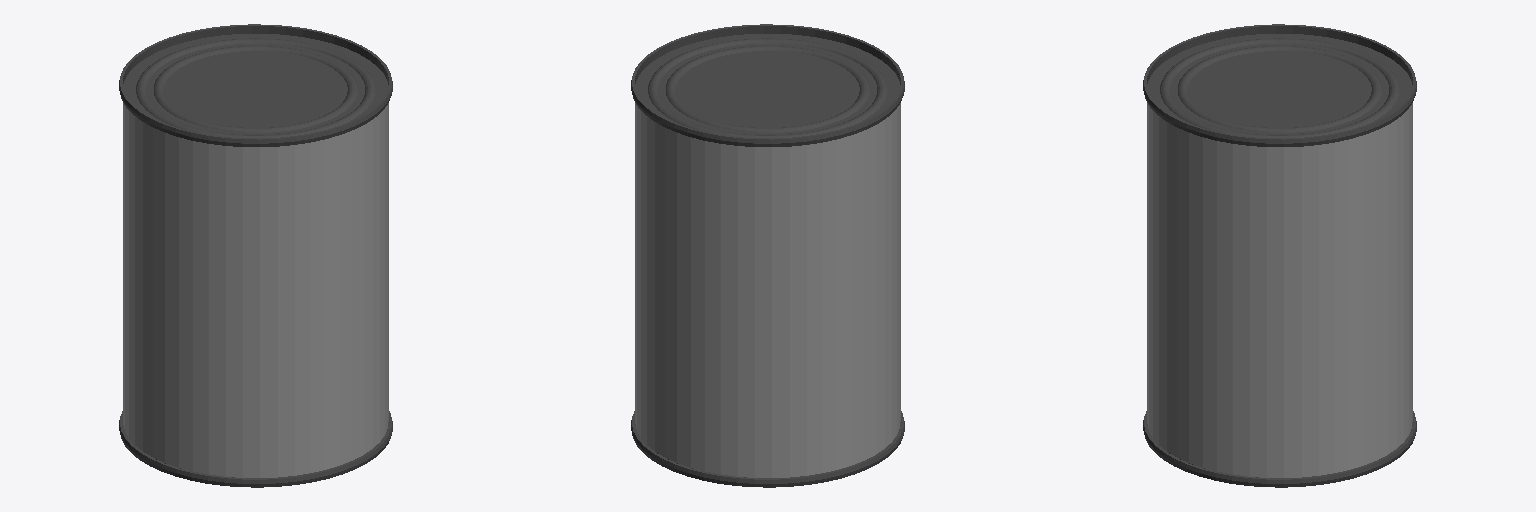
File: beets.obj
3 views of the same model, side by side, from view 1: azimuth 30°, elevation 25°; view 2: azimuth 150°, elevation 25°; view 3: azimuth 270°, elevation 25° (orthographic).
Size of the model in its own units: 0.0834 by 0.1167 by 0.0834.